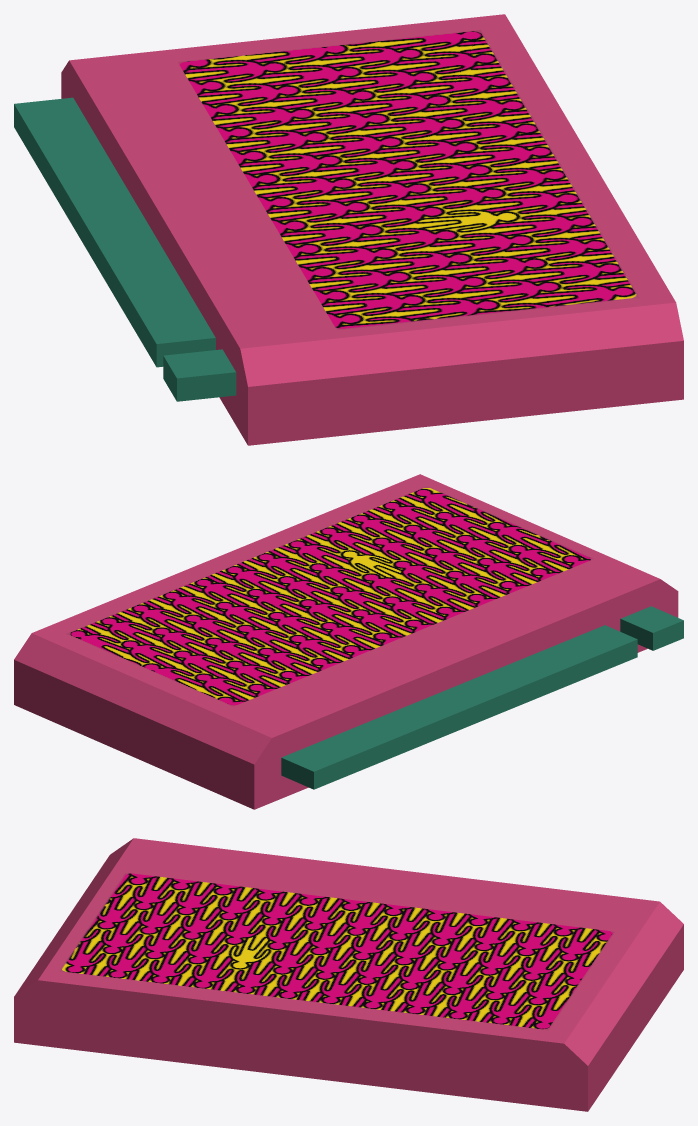
Rendered from cart3.glb.
3 renders of one model, top to bottom at view 1: azimuth 30°, elevation 25°; view 2: azimuth 150°, elevation 25°; view 3: azimuth 270°, elevation 25°, orthographic. The views are drawn at different scales.
Parts seen in each view (by area): view 1: cartridge.colored.005; view 2: cartridge.colored.005; view 3: cartridge.colored.005.
Part boxes in pixels (box(x1,y1,x2,y2)): cartridge.colored.005: box(14, 14, 683, 445); cartridge.colored.005: box(14, 474, 683, 809); cartridge.colored.005: box(14, 838, 683, 1111).
Bounding box in the file's own units: 0.0742 × 0.01 × 0.0929.
3 materials, 1 textured.
